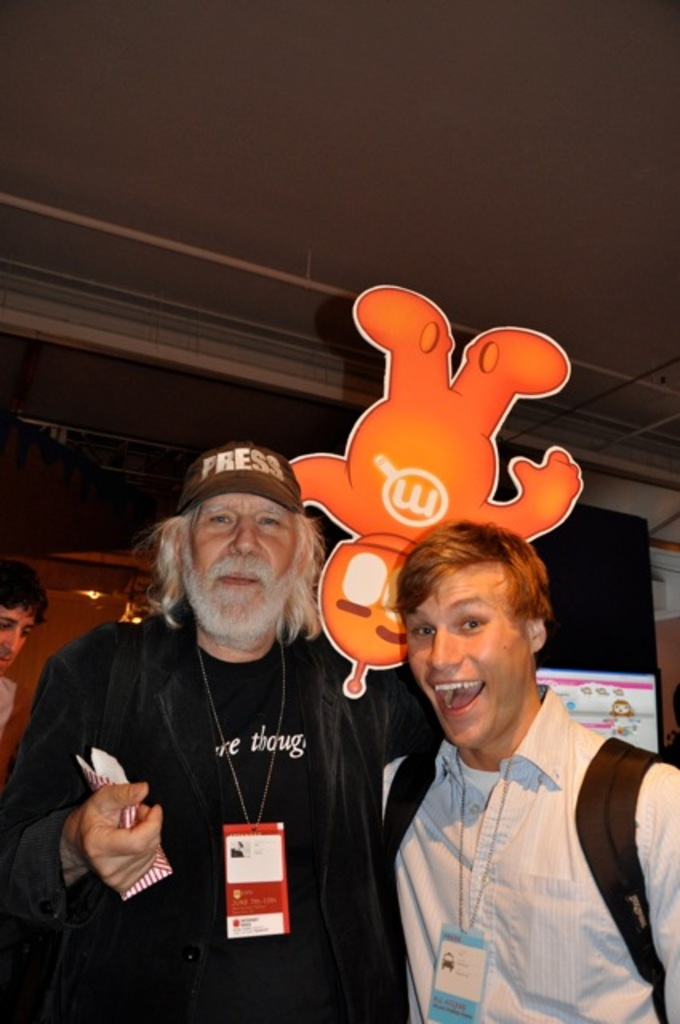Human-face: (403, 562, 530, 757), (186, 493, 298, 653), (2, 598, 37, 669)
